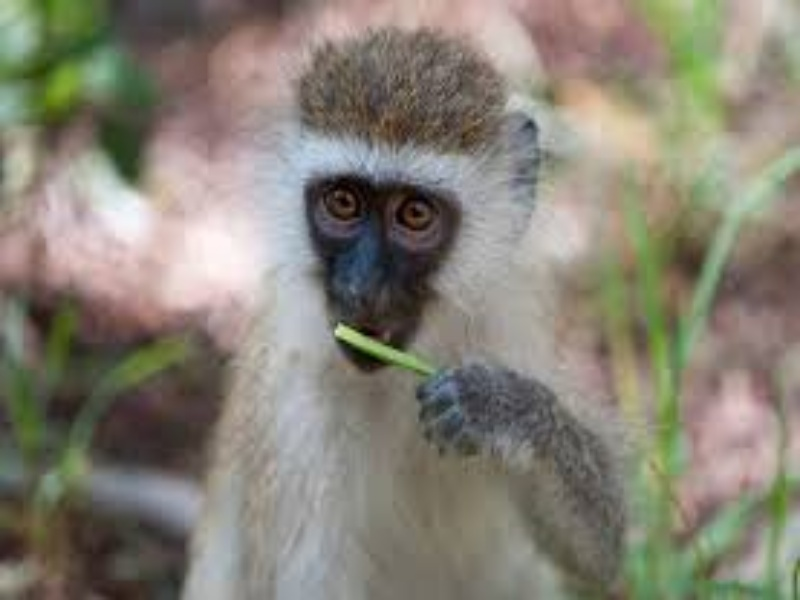monkey: (198, 28, 709, 600)
